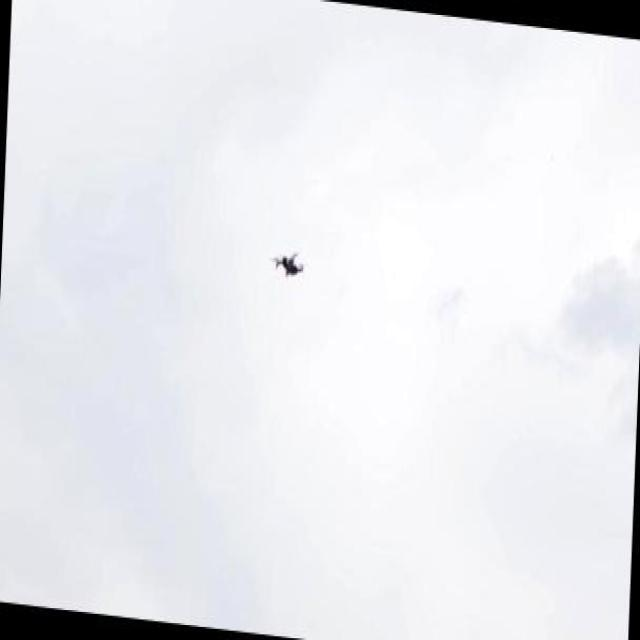drone: (270, 244, 306, 284)
